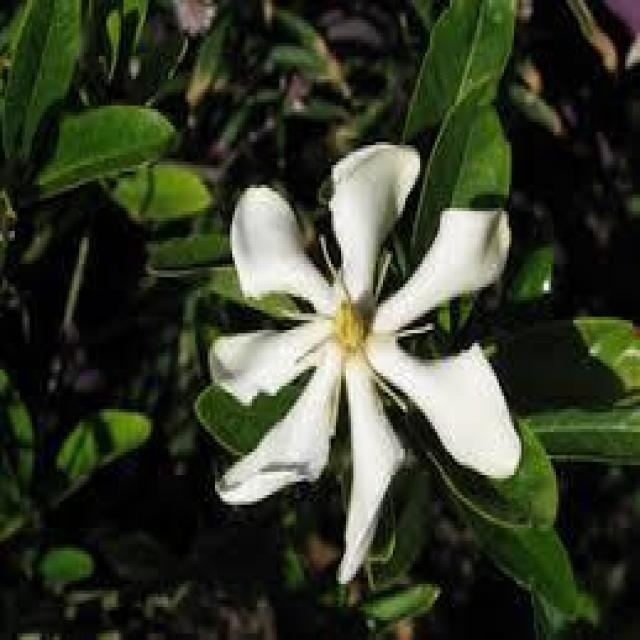organic waste: (209, 137, 525, 572)
